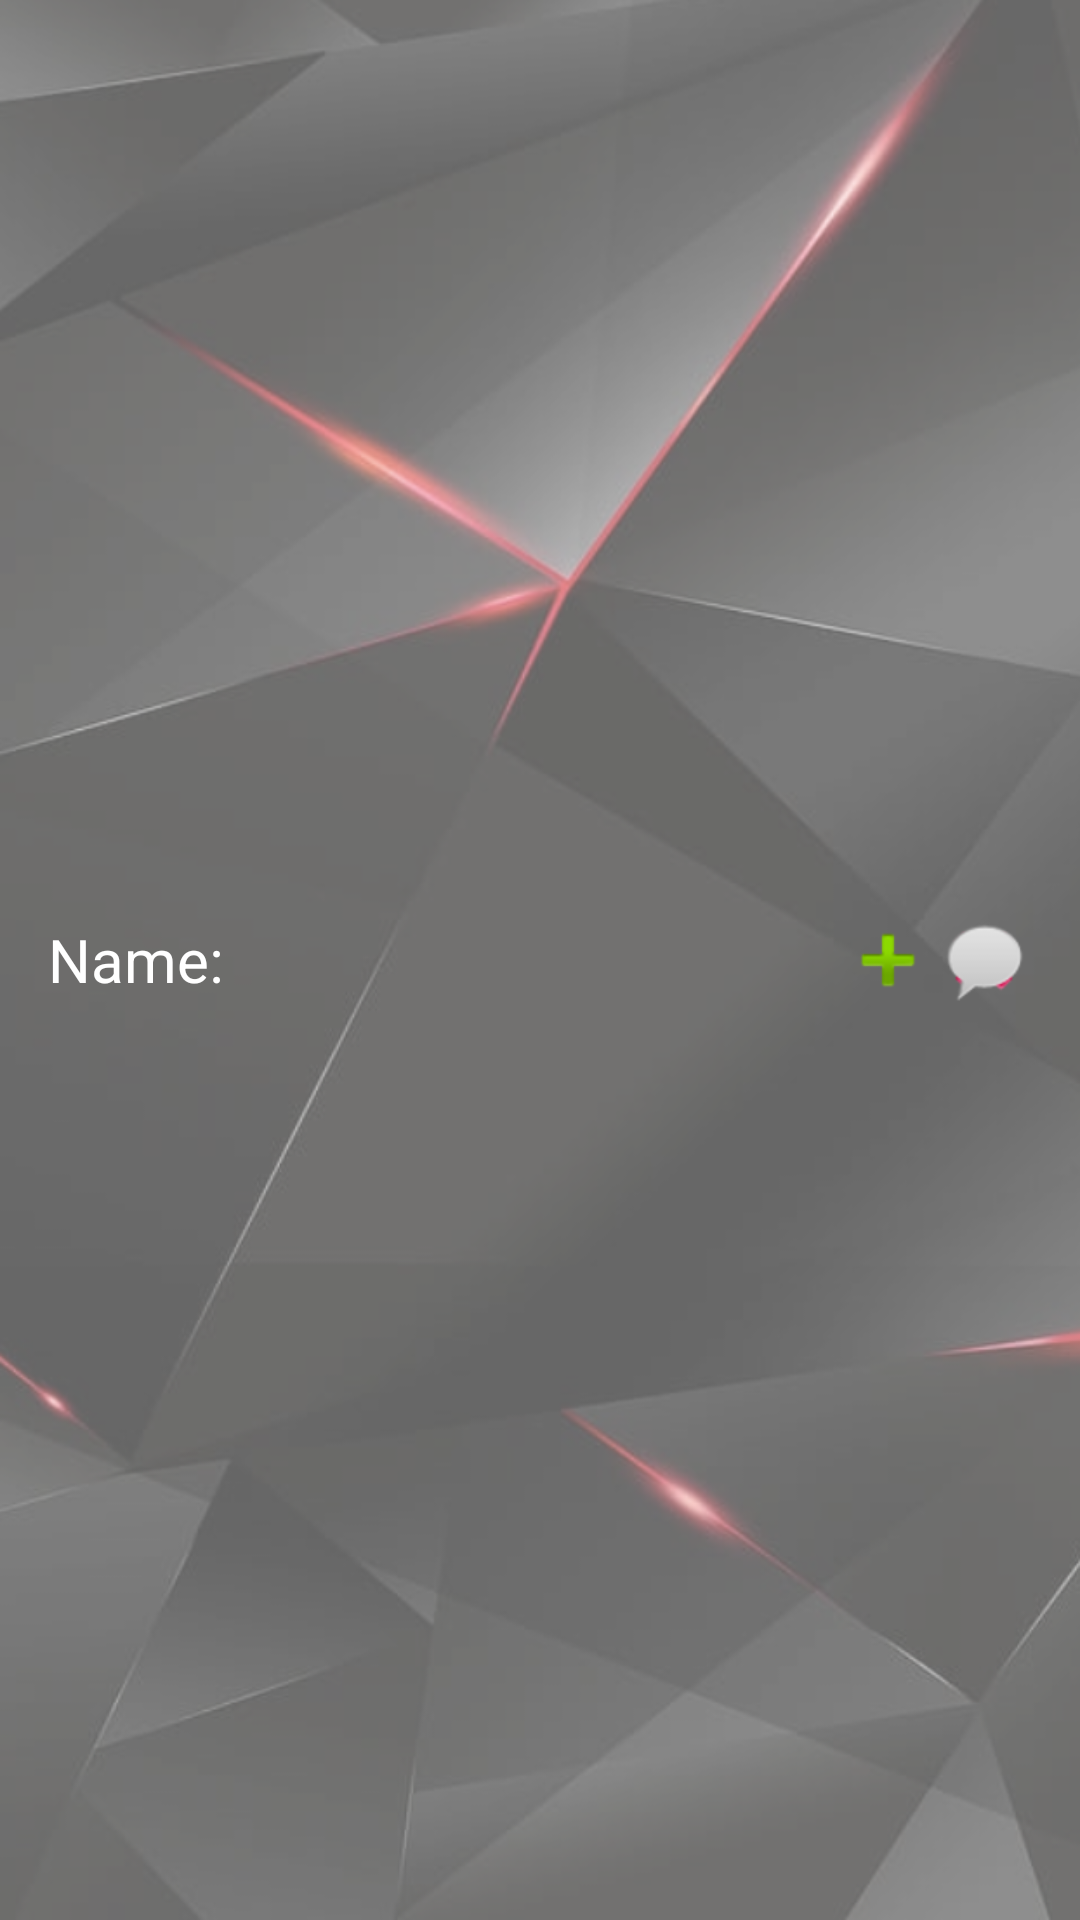

Locate icon controls on the screen. Image size 1080 × 1920, boxes as (x1, y1, x2, y2).
add: (861, 933, 915, 986)
